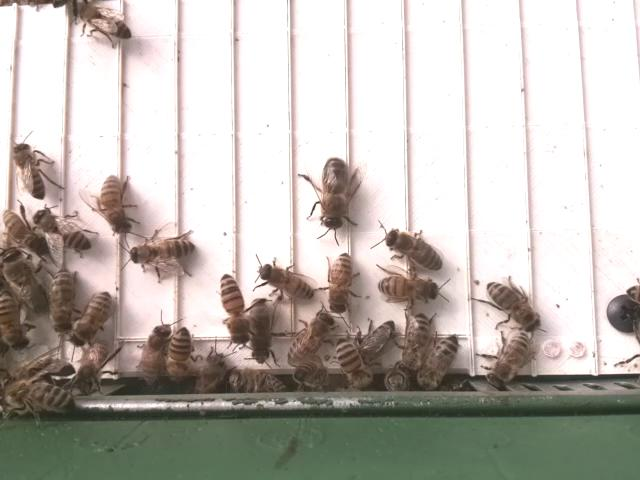Drone: (317, 155, 354, 233)
Worker: (481, 278, 544, 334), (383, 224, 443, 275), (30, 206, 96, 252), (69, 288, 113, 350), (286, 310, 335, 364), (98, 170, 136, 236), (255, 262, 314, 303), (217, 272, 249, 344), (137, 323, 173, 387), (10, 139, 49, 198), (489, 331, 533, 383), (420, 335, 463, 388), (376, 272, 441, 307), (127, 236, 197, 268), (332, 333, 369, 390), (246, 295, 276, 364), (50, 263, 77, 338), (399, 311, 432, 371), (326, 247, 354, 315)
